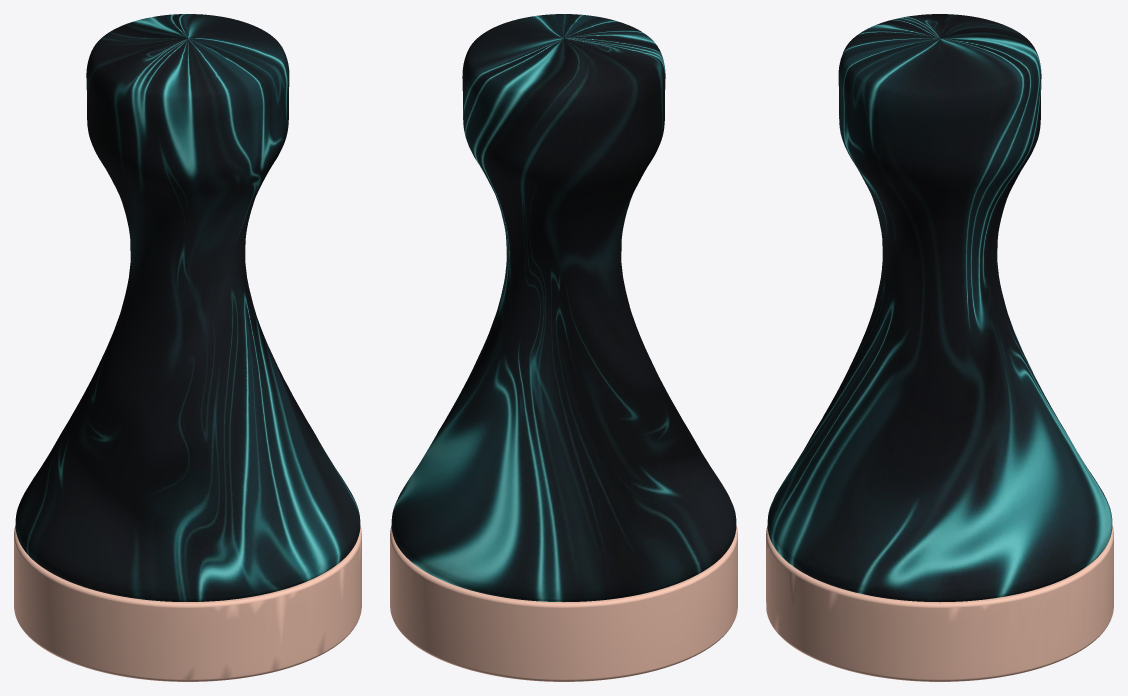
The model's file is rook-black-hd.glb.
The picture shows the model from 3 angles, left to right: view 1: azimuth 30°, elevation 25°; view 2: azimuth 150°, elevation 25°; view 3: azimuth 270°, elevation 25°; orthographic projection.
Parts seen in each view (by area): view 1: vez_cerna; view 2: vez_cerna; view 3: vez_cerna.
Part boxes in pixels (x1,y1,x2,y2): vez_cerna: (14,14,361,681); vez_cerna: (390,14,737,681); vez_cerna: (766,14,1113,681).
Bounding box in the file's own units: 0.6729 × 1.22 × 0.6729.
2 materials, 1 textured.
